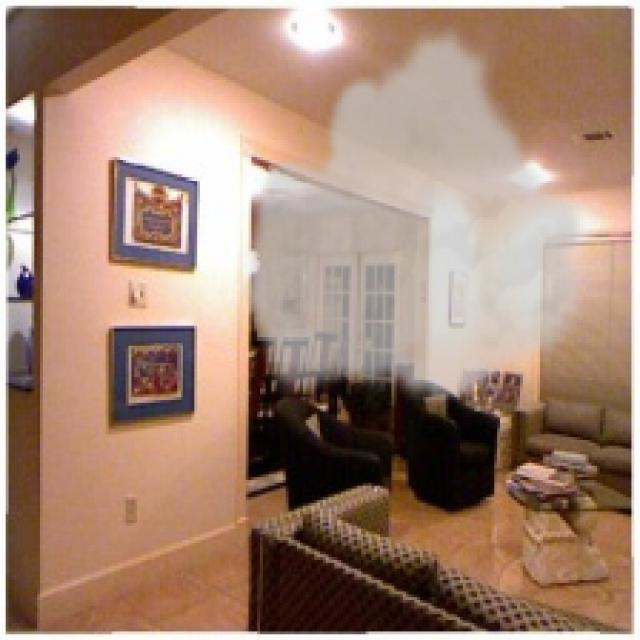smoke: (240, 20, 597, 406)
